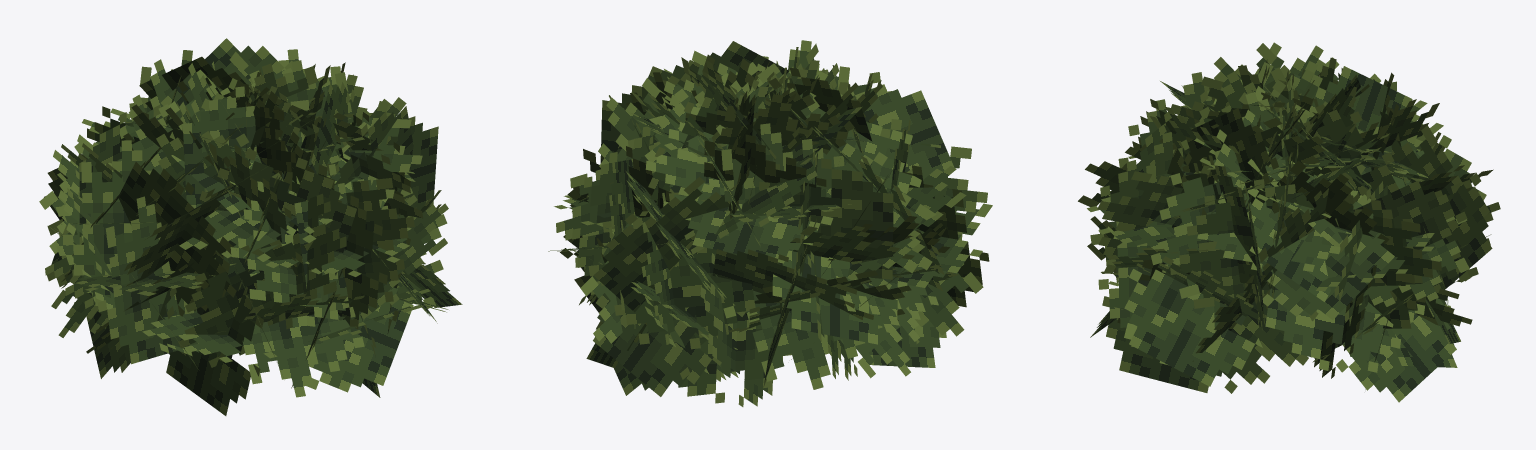
The model's file is Bush.fbx.
The picture shows the model from 3 angles, left to right: view 1: azimuth 30°, elevation 25°; view 2: azimuth 150°, elevation 25°; view 3: azimuth 270°, elevation 25°; orthographic projection. The views are drawn at different scales.
Visible parts, largest first — view 1: Bush; view 2: Bush; view 3: Bush.
Boxes of the visible parts, x1=… form: Bush: x1=39, y1=38, x2=462, y2=415; Bush: x1=548, y1=40, x2=992, y2=406; Bush: x1=1078, y1=42, x2=1500, y2=402.
Bounding box in the file's own units: 2.43 × 1.92 × 2.43.
